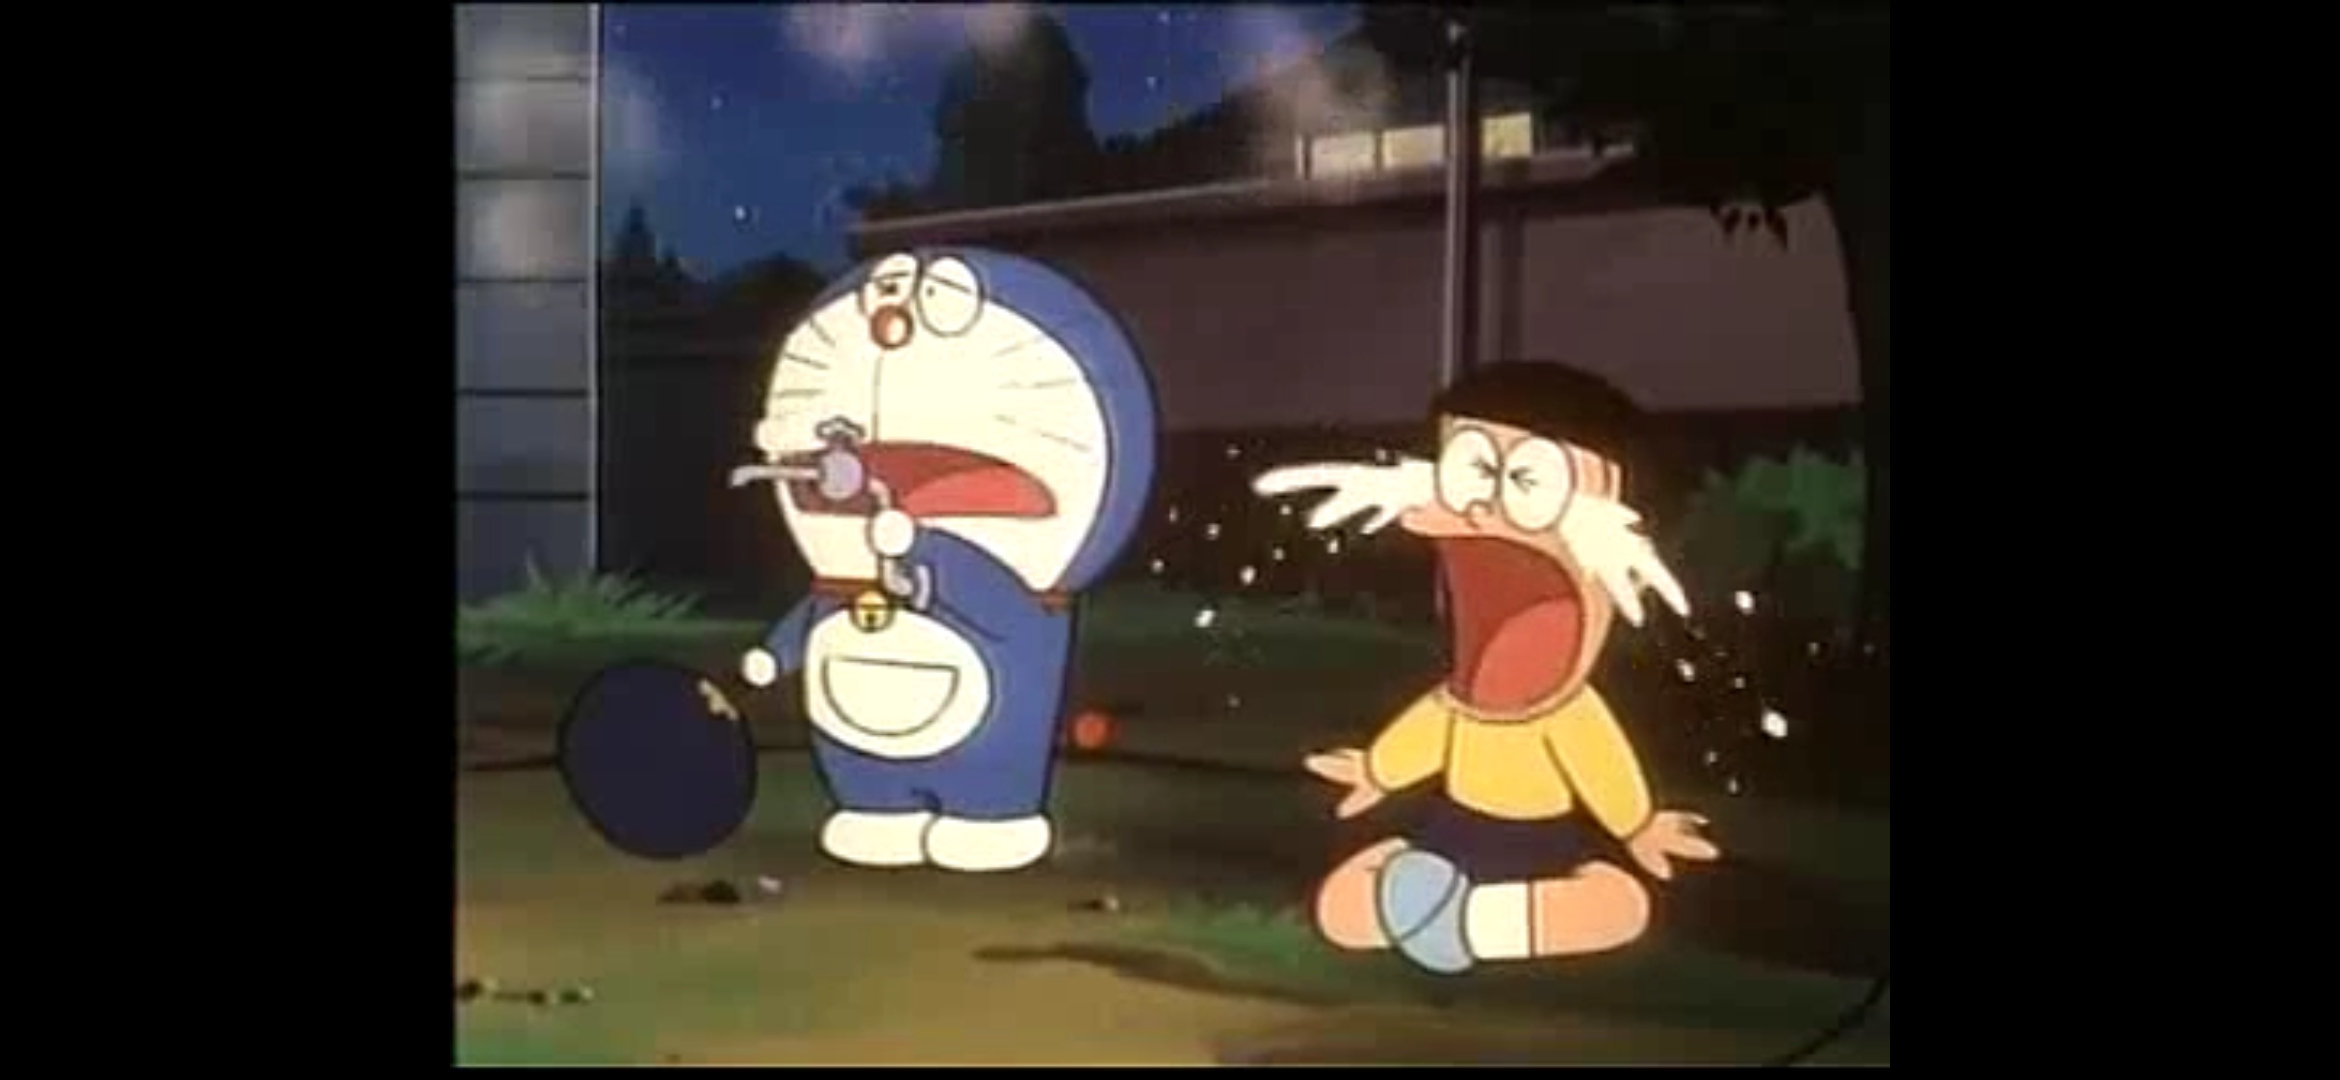Doraemon: (749, 242, 1154, 631)
Nobi: (1398, 358, 1649, 719)
